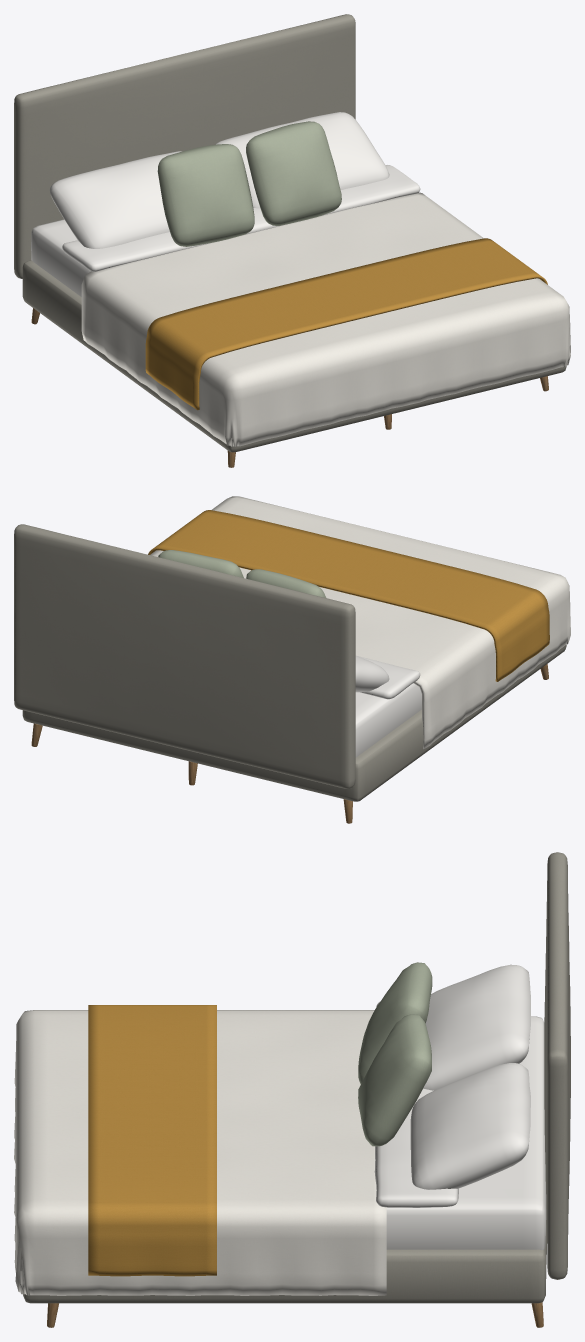
The model's file is cama_tapizada_180.glb.
3 views of the same model, one above another, from view 1: azimuth 30°, elevation 25°; view 2: azimuth 150°, elevation 25°; view 3: azimuth 270°, elevation 25° (orthographic). The views are drawn at different scales.
Visible parts, largest first — view 1: cama_tapizada_180; view 2: cama_tapizada_180; view 3: cama_tapizada_180.
Boxes of the visible parts, x1,y1,x2,y2 form: cama_tapizada_180: [14, 14, 570, 467]; cama_tapizada_180: [14, 496, 570, 823]; cama_tapizada_180: [14, 852, 570, 1327].
Size of the model in its own units: 1.98 by 1.21 by 2.17.
6 materials, 6 textured.
